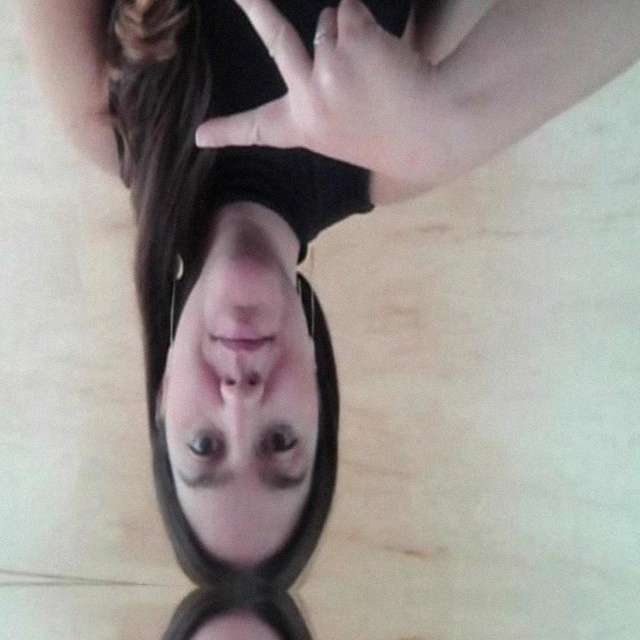Scissors: (173, 0, 477, 192)
